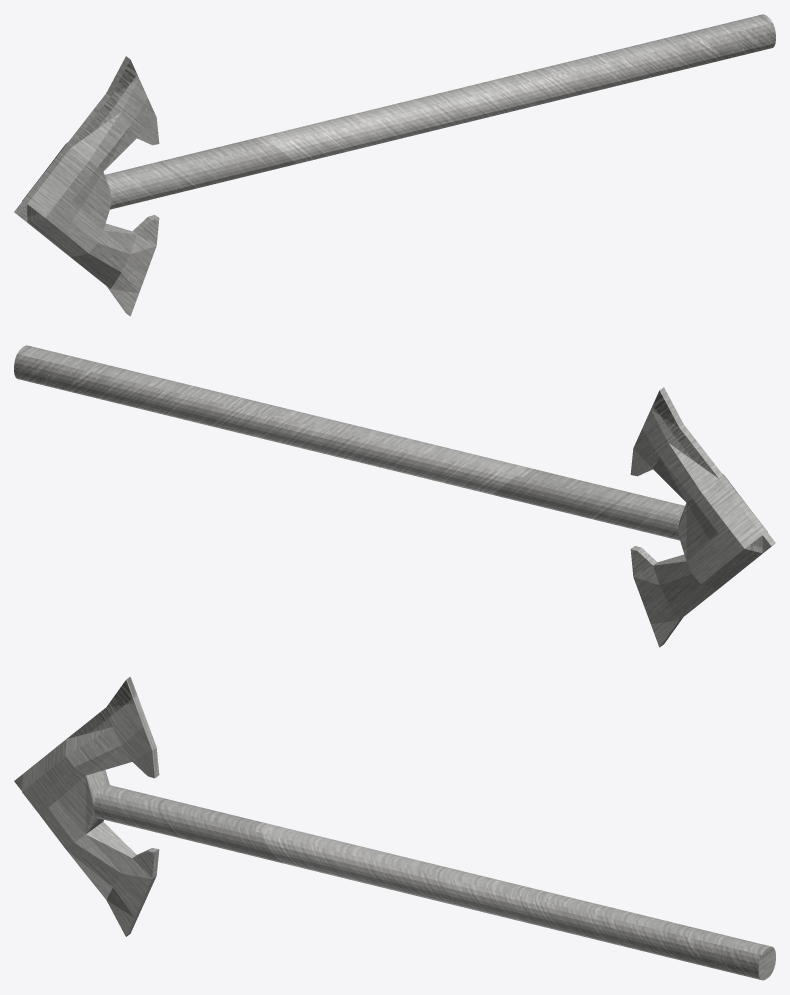
The model's file is harpoon.fbx.
3 views of the same model, one above another, from view 1: azimuth 30°, elevation 25°; view 2: azimuth 150°, elevation 25°; view 3: azimuth 330°, elevation 25° (orthographic).
Visible parts, largest first — view 1: Cube.001; view 2: Cube.001; view 3: Cube.001.
Boxes of the visible parts, left/top/right/bottom form: Cube.001: left=14, top=14, right=775, bottom=316; Cube.001: left=14, top=345, right=775, bottom=647; Cube.001: left=14, top=676, right=775, bottom=980.
Bounding box in the file's own units: 550 × 180 × 29.51.
Materials: 1 (1 with a texture image).
